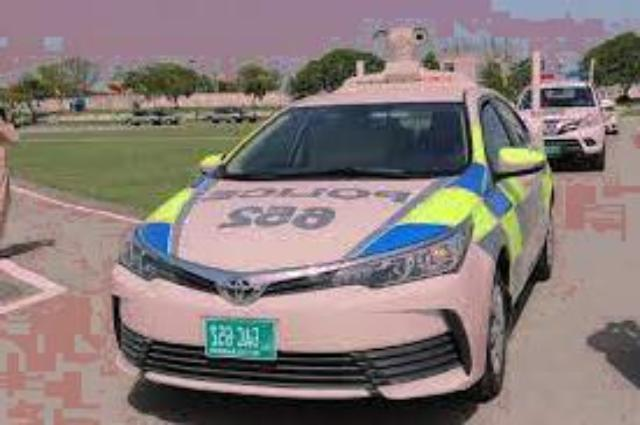police_car: (114, 74, 556, 407)
